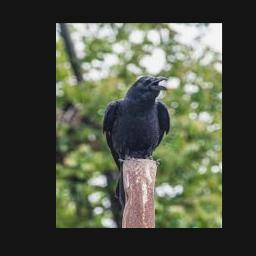Crow: (103, 75, 171, 211)
